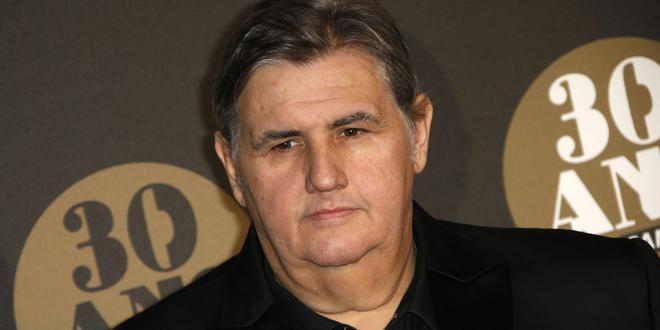without_mask: (235, 55, 417, 264)
